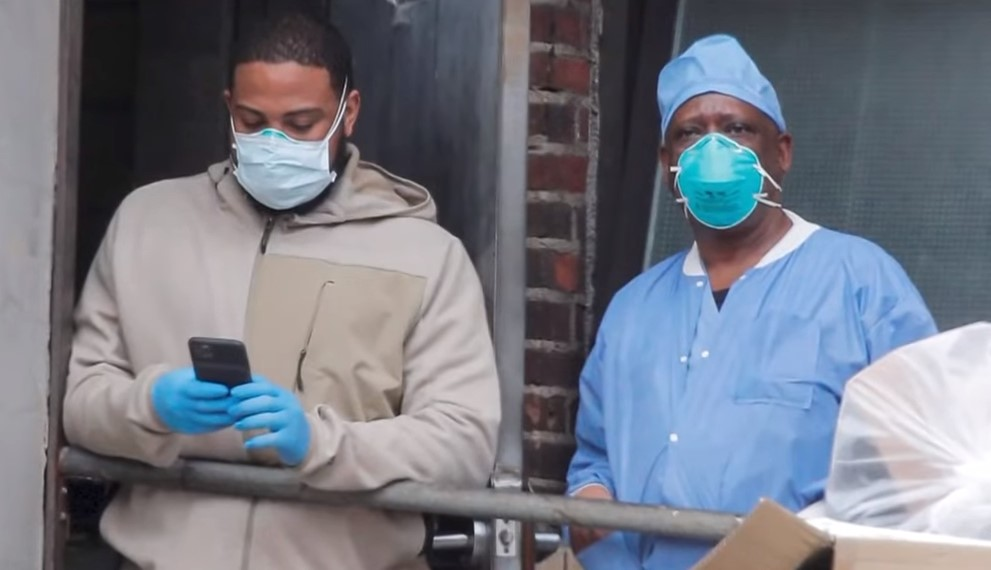face_with_mask: (220, 7, 363, 213), (656, 33, 793, 231)
